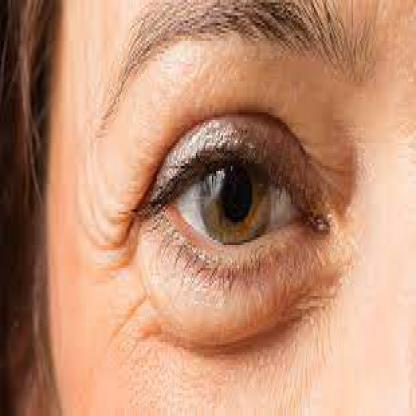darkspot: (80, 159, 102, 268), (69, 3, 98, 65), (32, 162, 48, 206), (256, 38, 270, 80), (204, 316, 211, 362), (98, 404, 115, 414)
